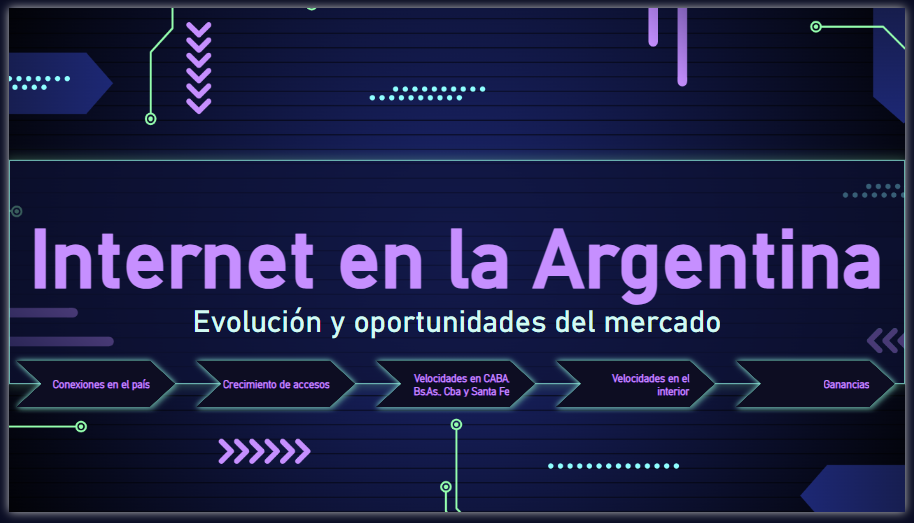

The dashboard page shown, as its layout file describes it:
{"tool":"powerbi","page":{"name":"Portada","canvas":[1280,720],"ordinal":0},"visuals":[{"type":"shape","box":[1142.4,328.8,137.5,31.2],"z":0},{"type":"textbox","box":[0,216.9,1279.8,320.3],"z":1000},{"type":"pageNavigator","box":[0,494.6,1279.8,85],"z":2000}]}

Visuals, with their boxes in screenshot pixels (x1, y1, x2, y2), scaled from the page's 1280x720 canvas onto the 914x523 screenshot:
shape: box(816, 239, 913, 262)
textbox: box(0, 158, 913, 390)
pageNavigator: box(0, 359, 913, 421)
